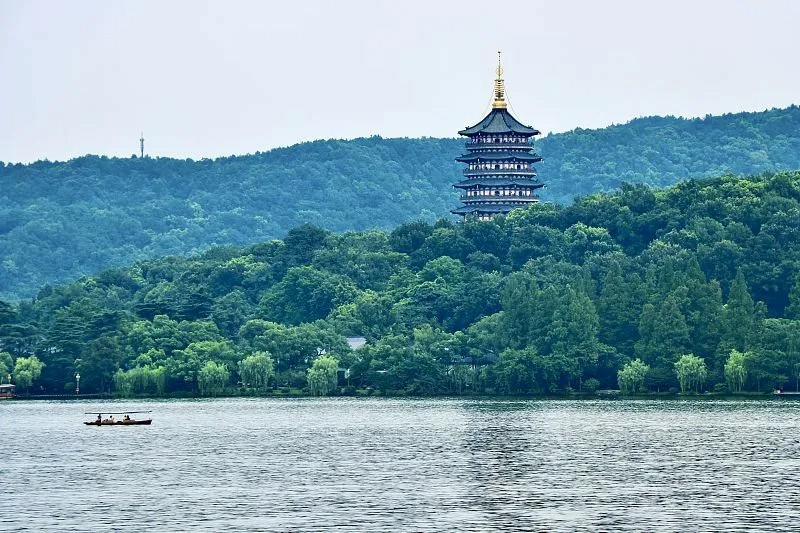Leifeng: (450, 49, 547, 224)
